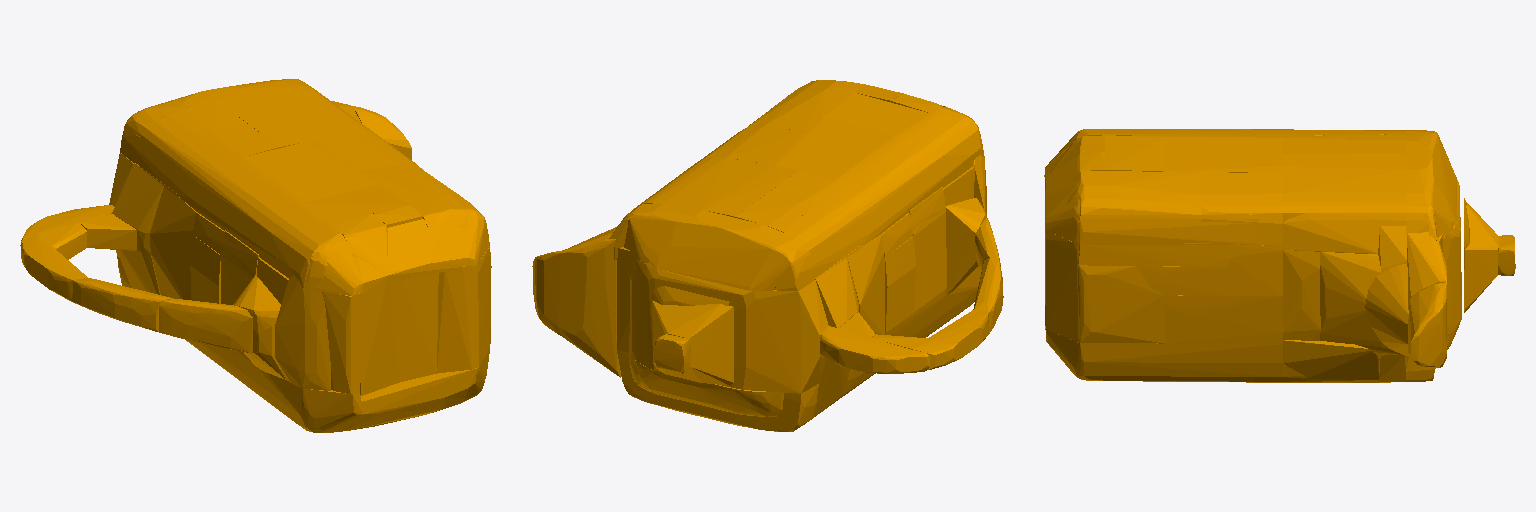
The robot description file, URDF, robot "teapot-ambition":
<?xml version="1.0" ?>
<robot name="teapot-ambition">
  <link name="baseLink">
    <contact>
      <lateral_friction value="1.0"/>
      <inertia_scaling value="3.0"/>
    </contact>
    <inertial>
      <origin rpy="0 0 0" xyz="0.000 0.000 0.000"/>
       <mass value=".1"/>
       <inertia ixx="1" ixy="0.0" ixz="0.0" iyy="1" iyz="0.0" izz="1"/>
    </inertial>
    <visual>
      <origin rpy="0 0 0" xyz="0 0 0"/>
      <geometry>
        <mesh filename="teapot/teapot-ambition_brand.obj" scale="1.0 1.0 1.0"/>
      </geometry>
    </visual>
    <collision>
      <origin rpy="0 0 0" xyz="0 0 0"/>
      <geometry>
        <mesh filename="../collision/teapot/teapot-ambition_brand.obj" scale="1.0 1.0 1.0"/>
      </geometry>
    </collision>
  </link>
</robot>
        

--- Facts derived from the render (not from the file) ---
3 views of the same robot in one strip: view 1: azimuth 30°, elevation 25°; view 2: azimuth 150°, elevation 25°; view 3: azimuth 270°, elevation 25° (orthographic).
Model teapot-ambition with 1 links and 0 joints (none), rooted at baseLink, posed every joint at zero.
Visible links, largest first — view 1: baseLink; view 2: baseLink; view 3: baseLink.
Link boxes in pixels (<box>): baseLink: <box>20,79,491,432</box>; baseLink: <box>532,80,1003,431</box>; baseLink: <box>1044,129,1515,382</box>.
Size in the robot's own frame: 0.1639 by 0.1725 by 0.0788 metres.
1 mesh visuals loaded from 1 distinct referenced files (1 OBJ).